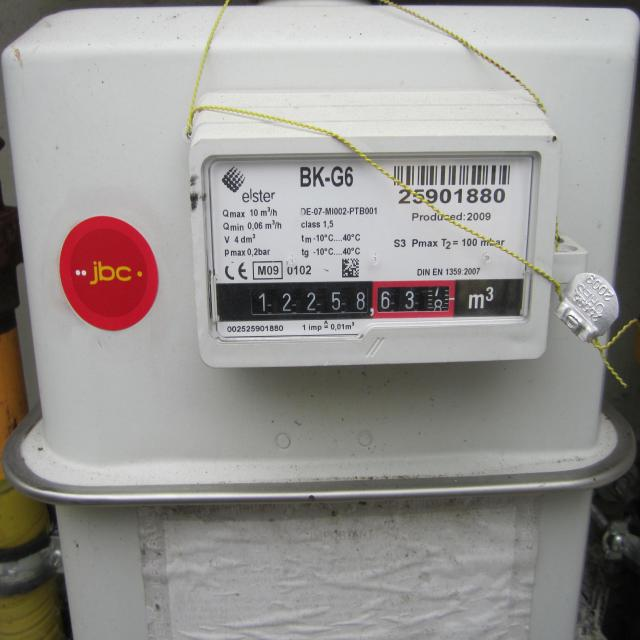gaz_meter: (206, 152, 534, 328)
indication: (216, 279, 454, 321)
